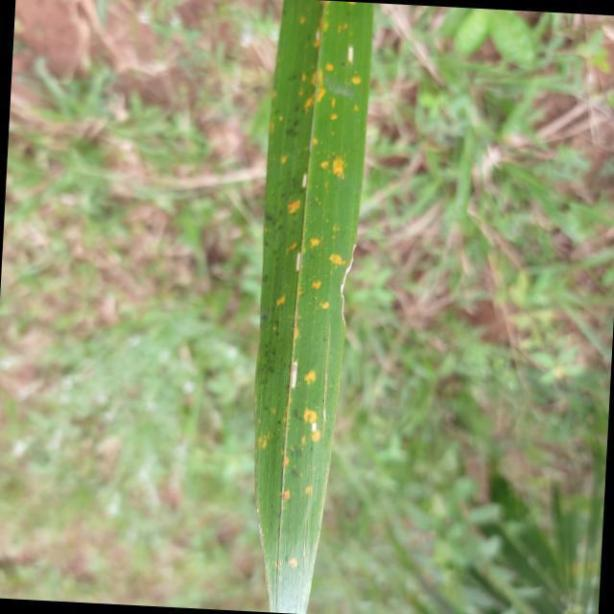Kalium: (249, 0, 376, 614)
